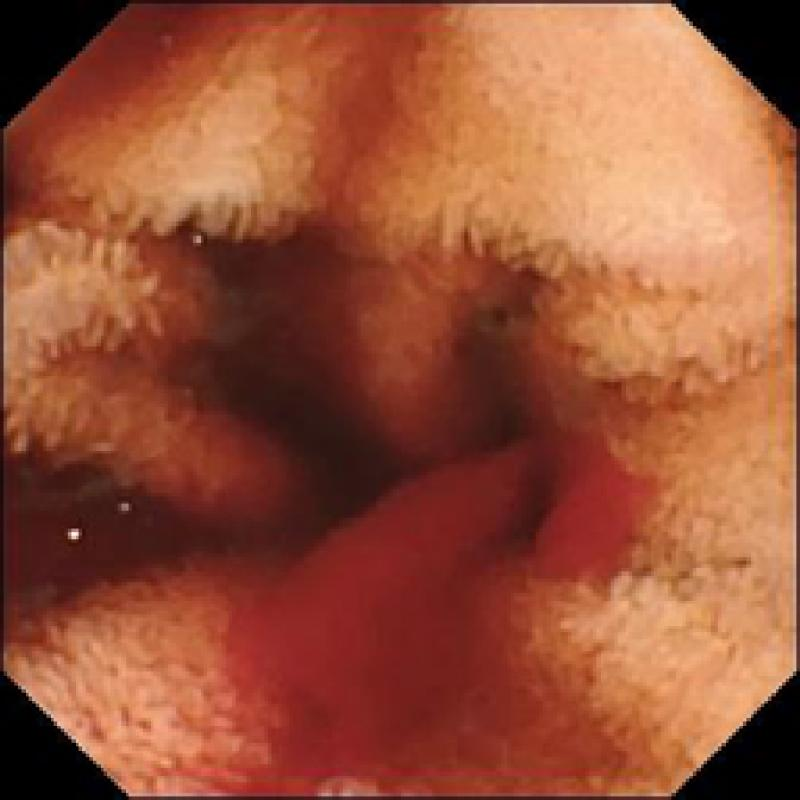bleeding: (211, 428, 650, 796)
